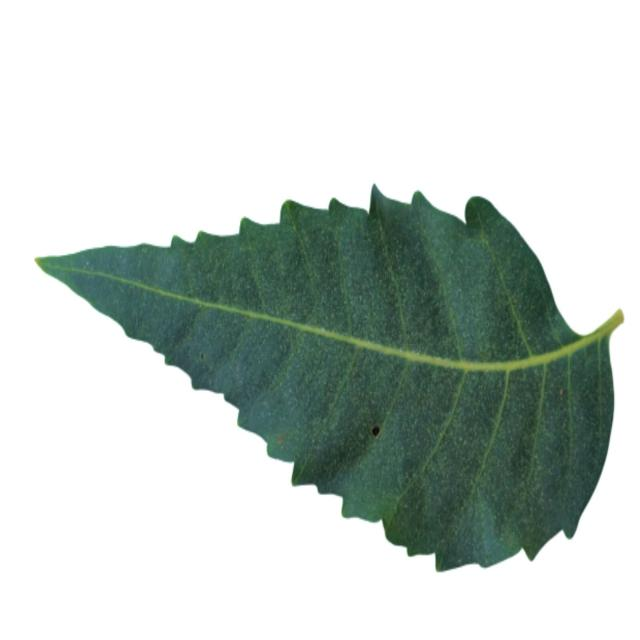Medicinal-Neem: (26, 179, 624, 569)
